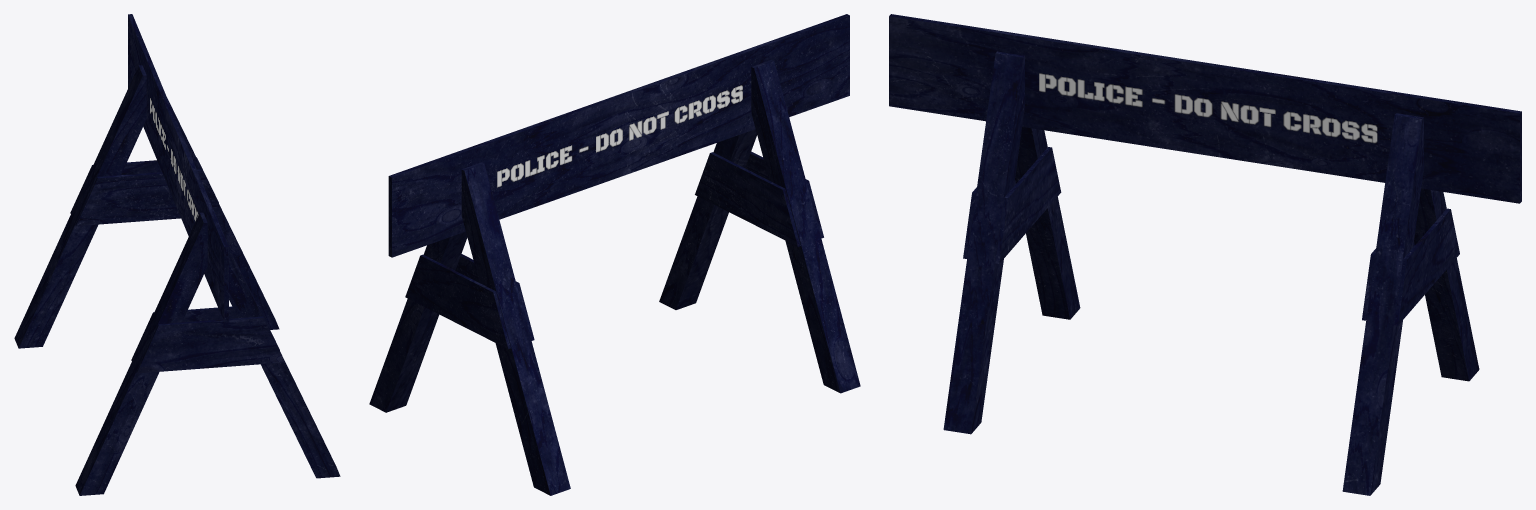
File: SeñalPolicia.obj
3 views of the same model, side by side, from view 1: azimuth 30°, elevation 25°; view 2: azimuth 150°, elevation 25°; view 3: azimuth 270°, elevation 25° (orthographic). The views are drawn at different scales.
Parts seen in each view (by area): view 1: WoodenBarrier; view 2: WoodenBarrier; view 3: WoodenBarrier.
Boxes of the visible parts, x1,y1,x2,y2 form: WoodenBarrier: [14, 14, 340, 495]; WoodenBarrier: [369, 14, 860, 495]; WoodenBarrier: [889, 14, 1521, 495].
Bounding box in the file's own units: 10.82 × 8.8 × 15.06.
